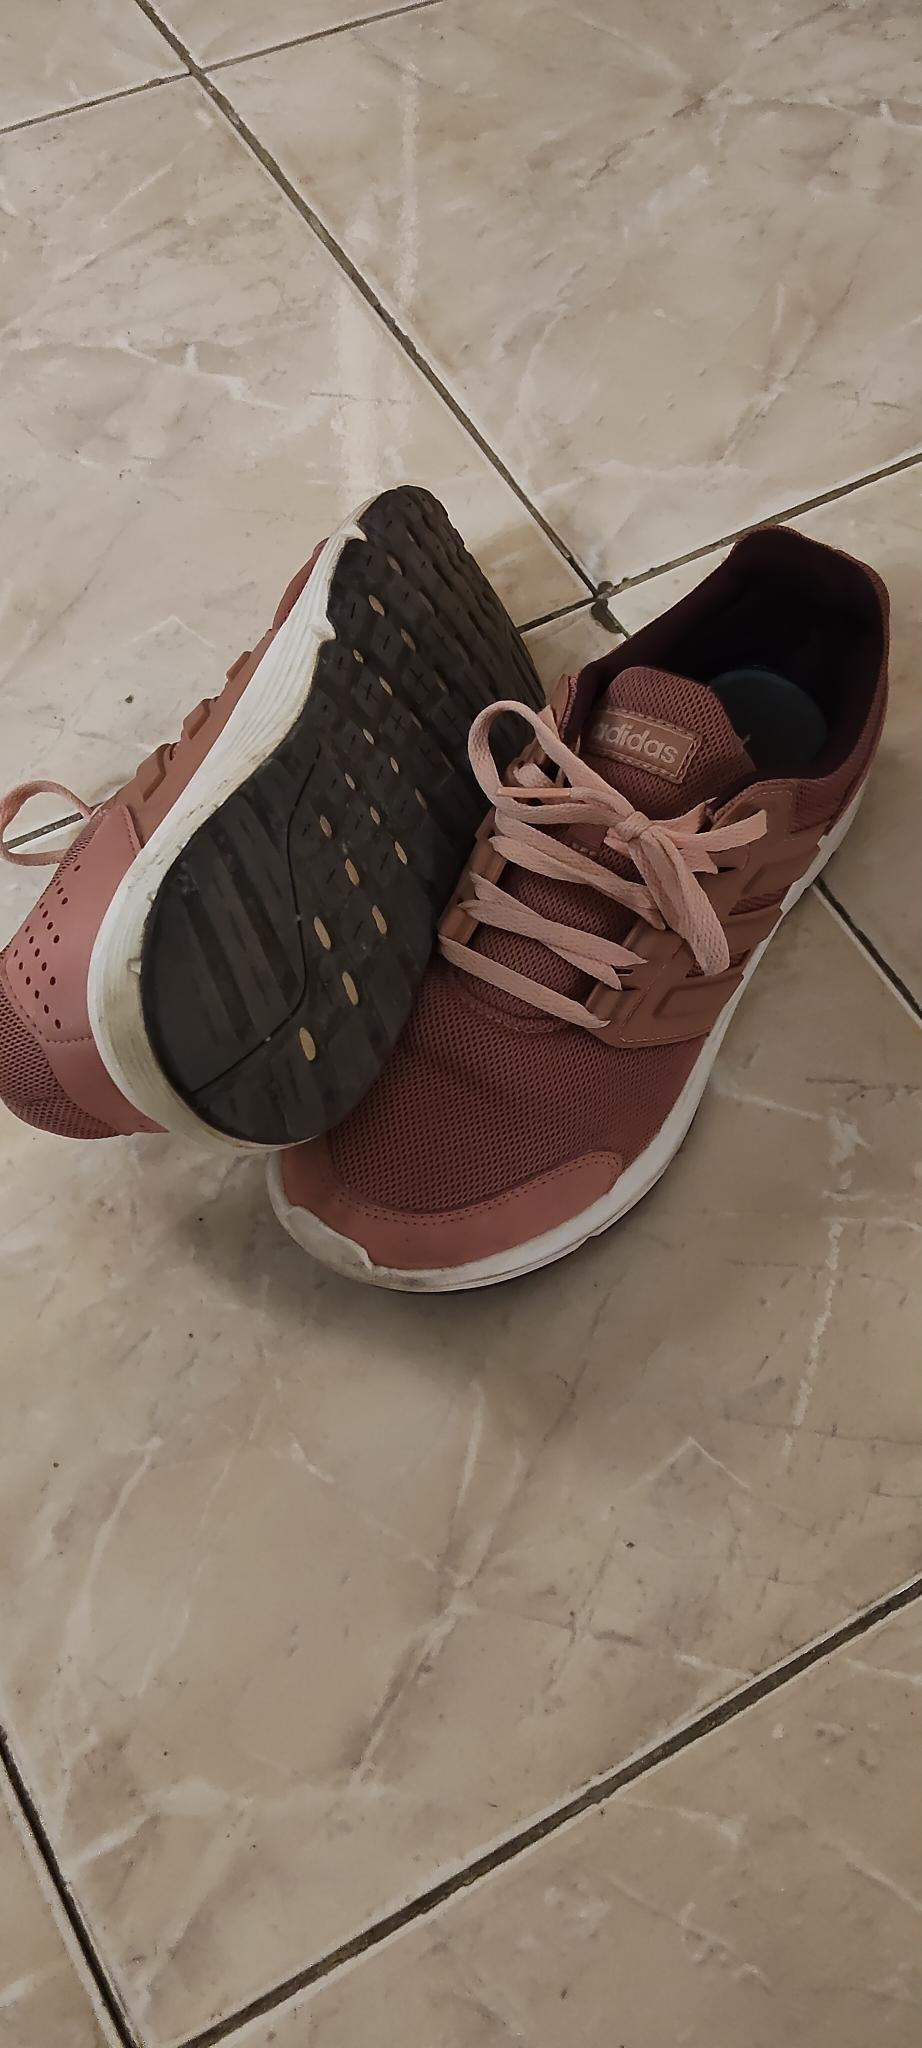Shoes: (260, 526, 898, 1291), (0, 484, 542, 1151)
